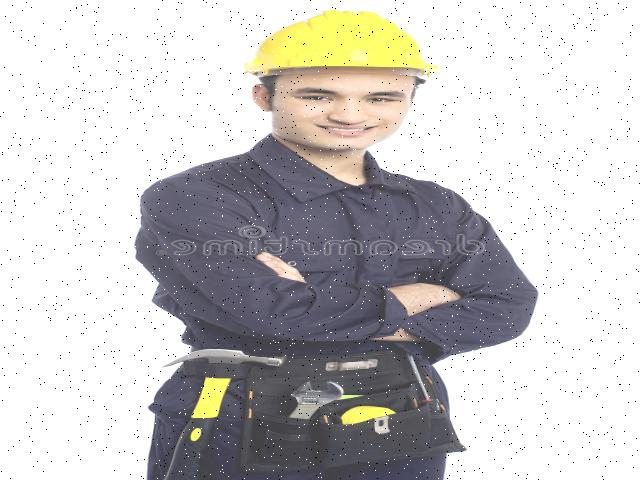Helmet: (236, 4, 447, 91)
